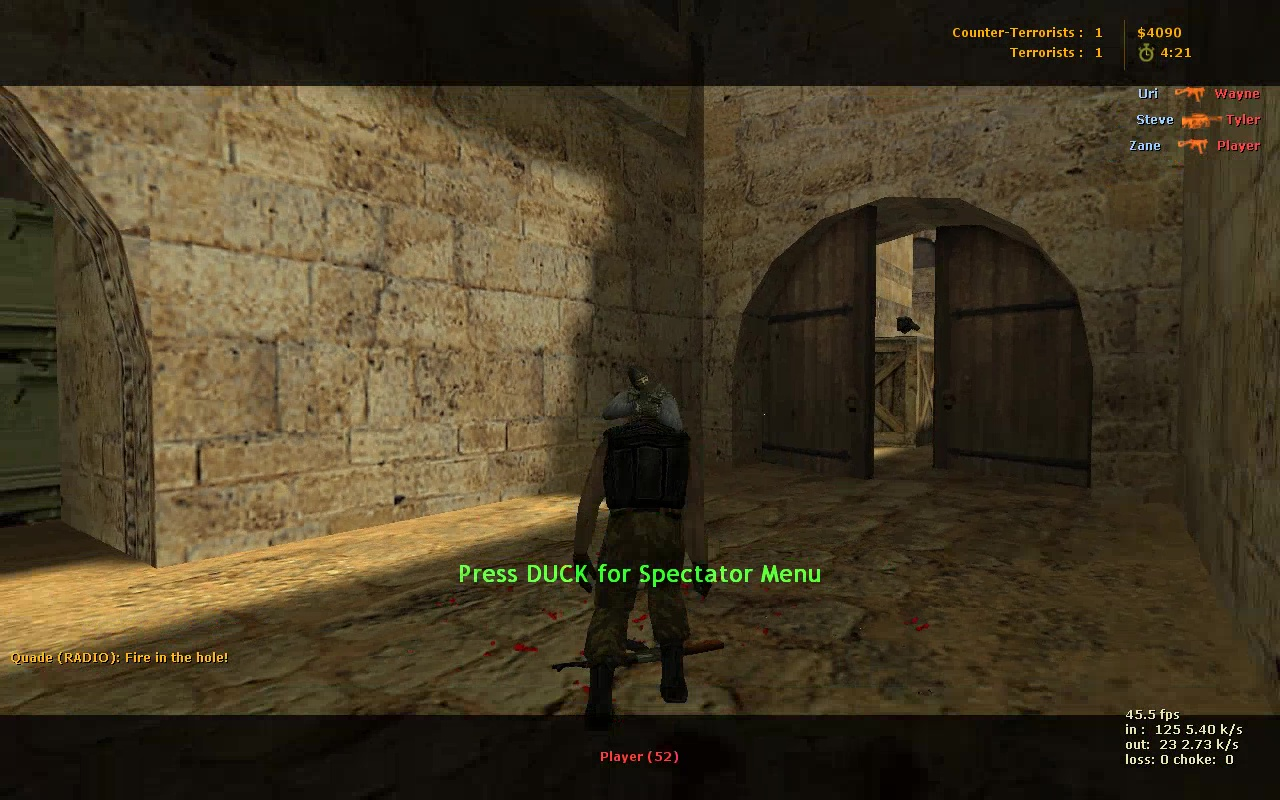terr1: (564, 412, 713, 731)
